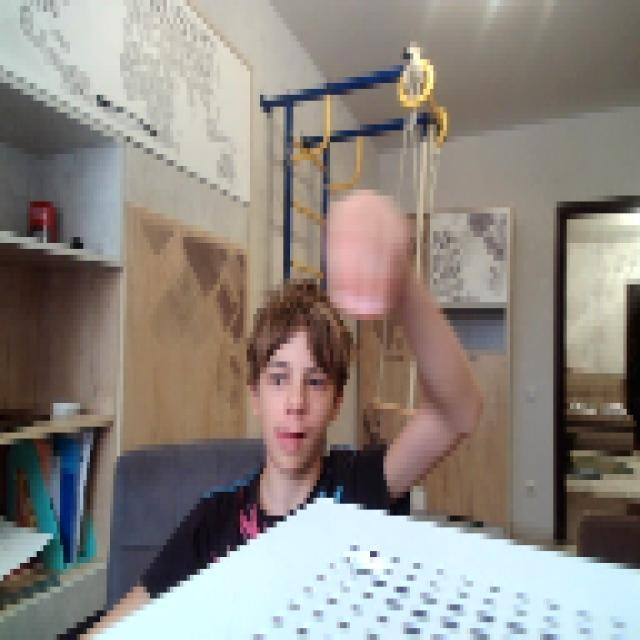left_click: (317, 178, 410, 320)
